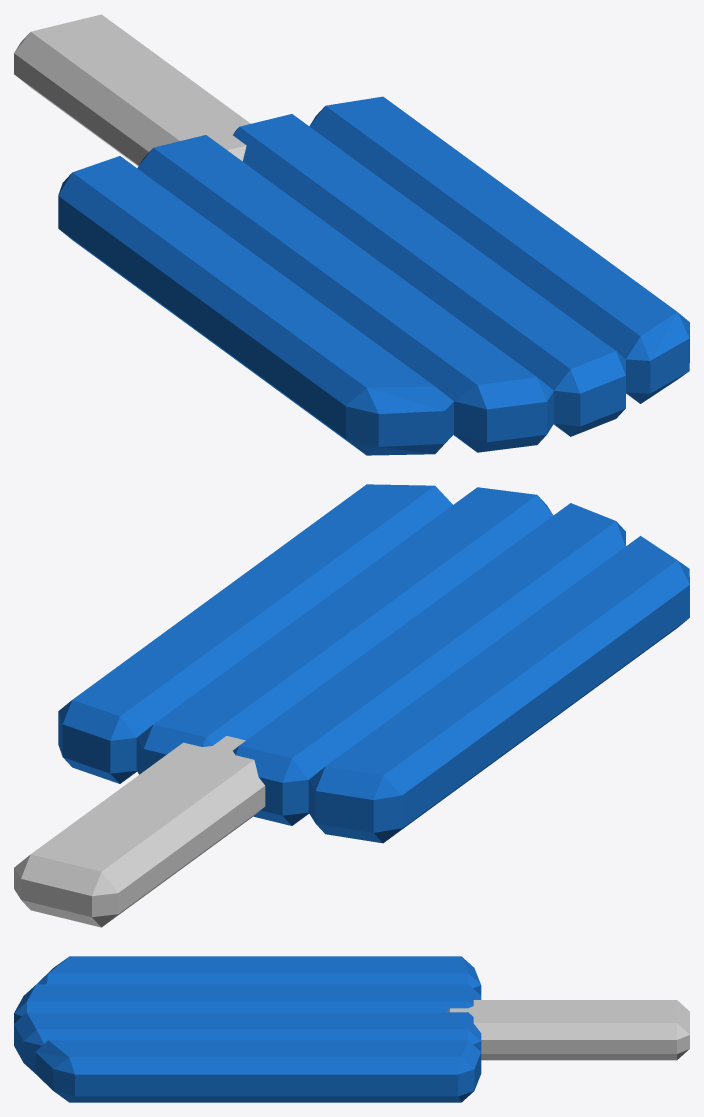
Rendered from SM_inflatable_ice_cream.fbx.
3 views of the same model, one above another, from view 1: azimuth 30°, elevation 25°; view 2: azimuth 150°, elevation 25°; view 3: azimuth 270°, elevation 25° (orthographic). The views are drawn at different scales.
Parts seen in each view (by area): view 1: Cube_13; view 2: Cube_13; view 3: Cube_13.
Part boxes in pixels (box(x1,y1,x2,y2)): Cube_13: box(14, 14, 689, 455); Cube_13: box(14, 484, 689, 927); Cube_13: box(14, 956, 689, 1102).
Size of the model in its own units: 89.29 by 16.8 by 228.
